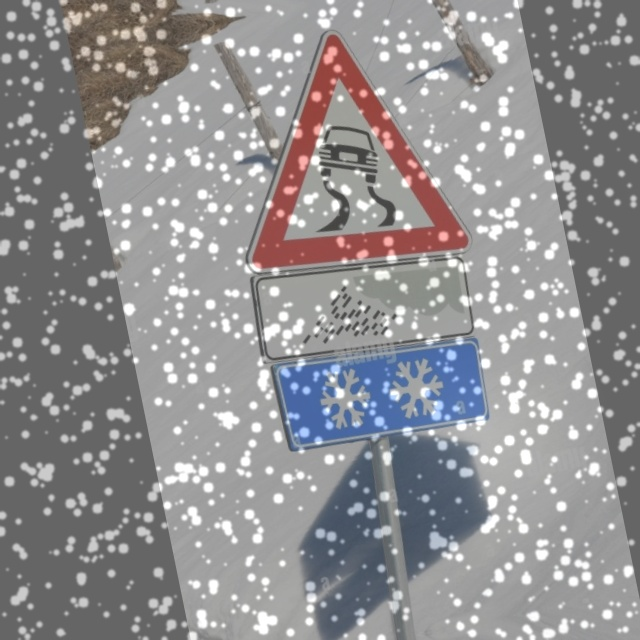Slippery_Road: (212, 12, 473, 287)
